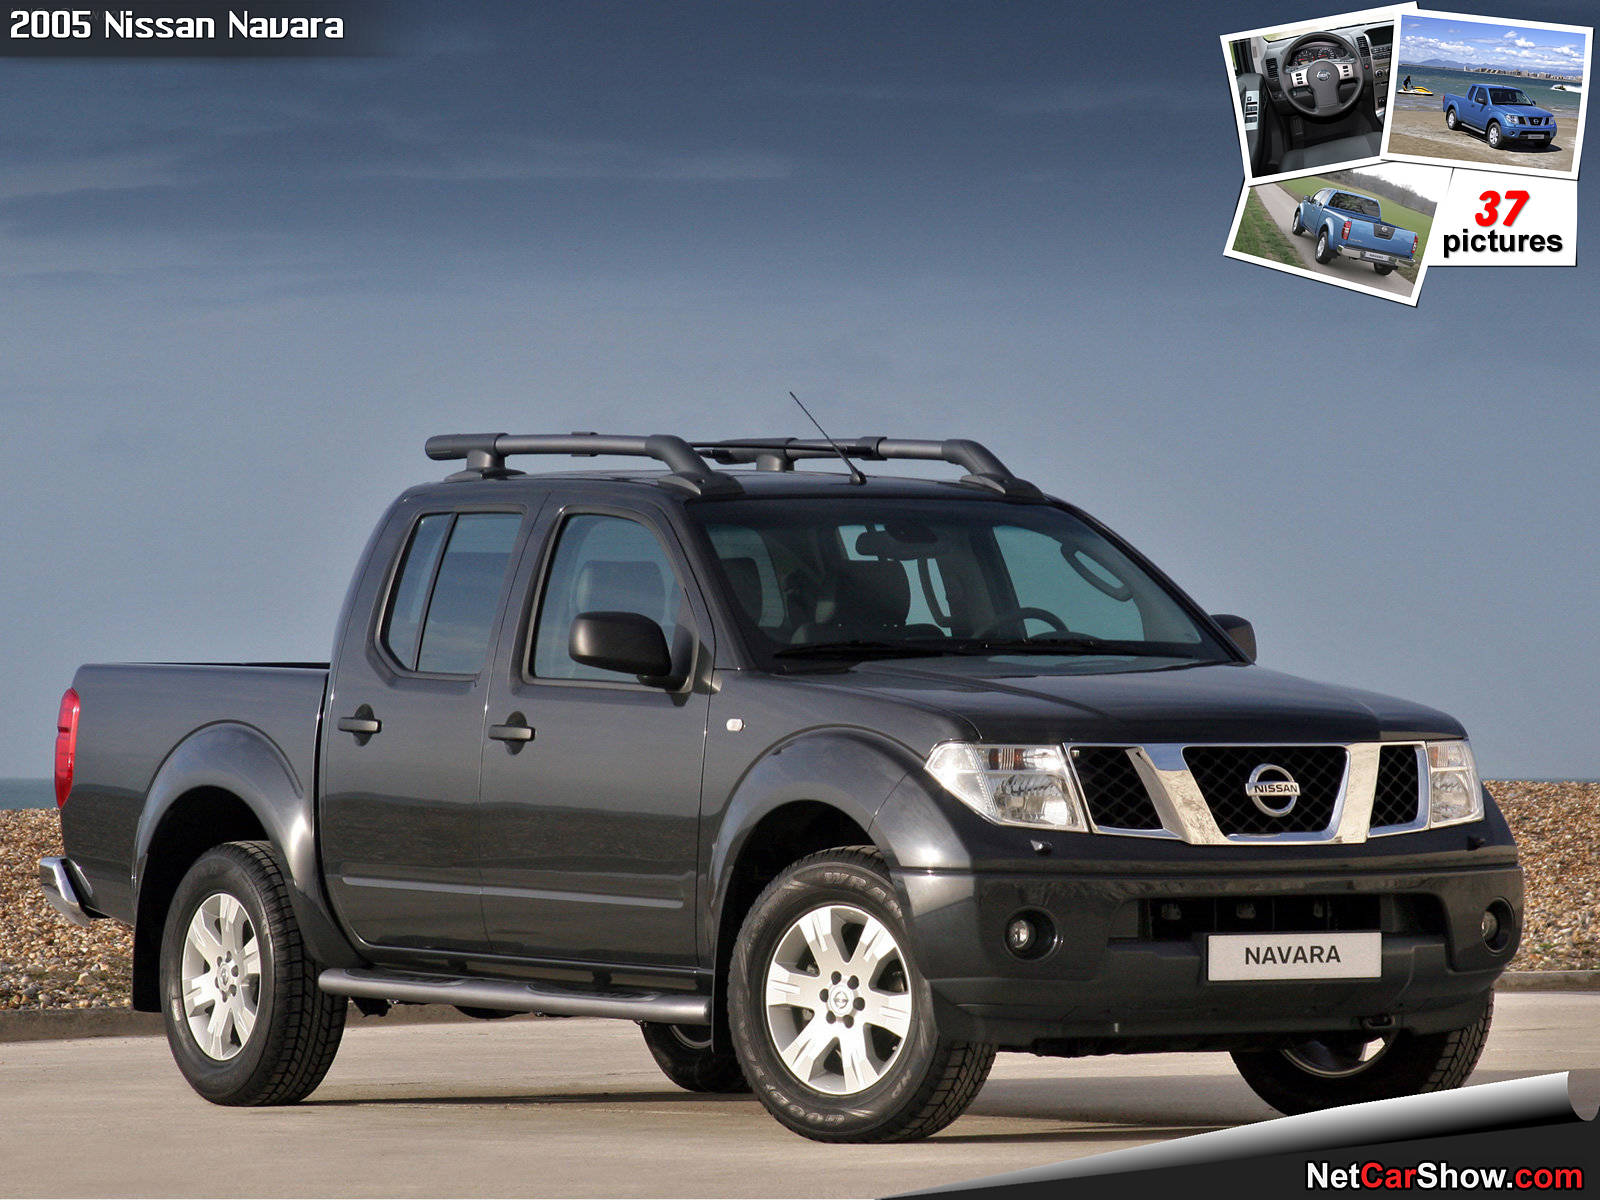pickup: (35, 456, 1528, 1142)
